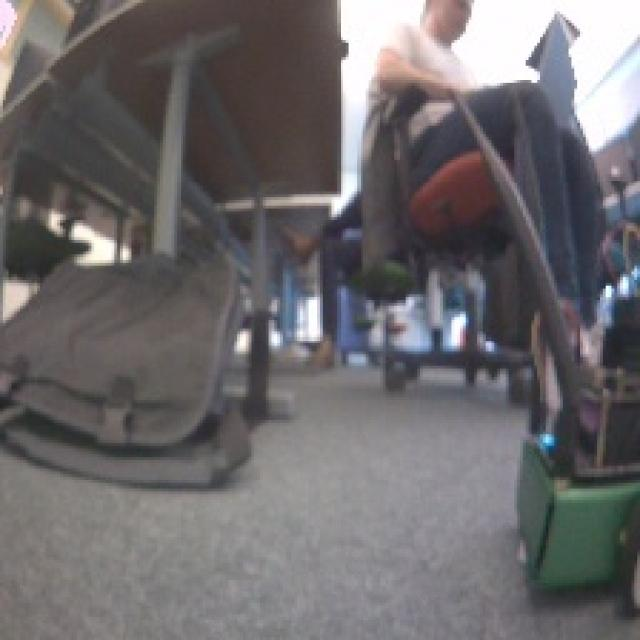robot: (508, 320, 640, 621)
